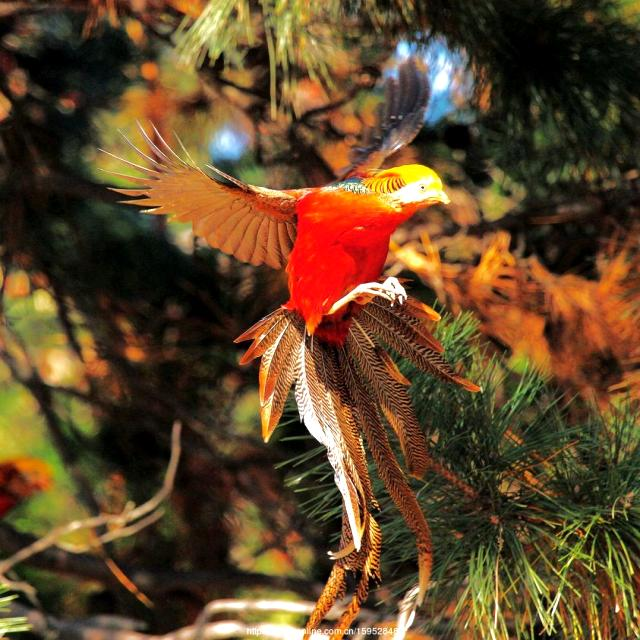Chrysolophus pictus feather: (241, 299, 478, 628)
